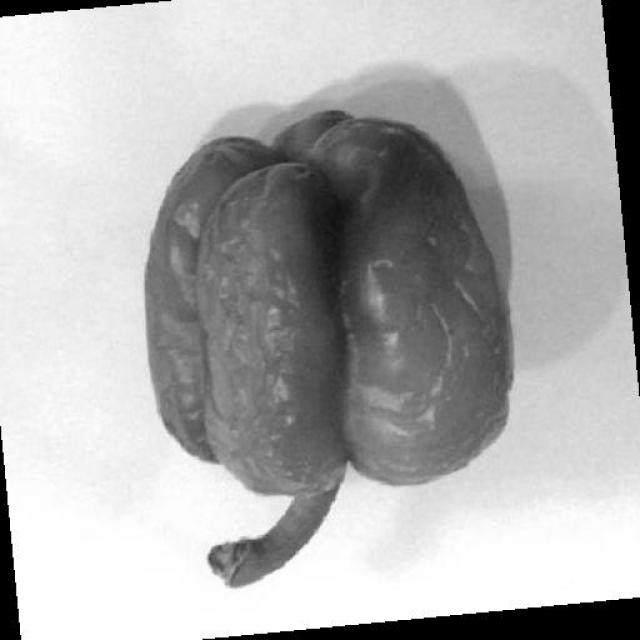Stale_Capsicum: (168, 143, 494, 521)
